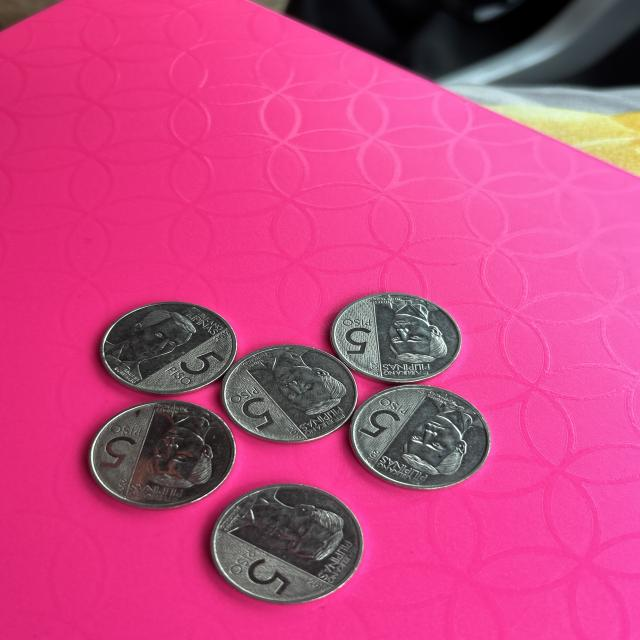5_New_Front: (221, 544, 286, 598), (225, 389, 282, 431), (100, 421, 138, 474), (362, 392, 402, 439), (165, 346, 221, 379), (336, 313, 374, 358)
